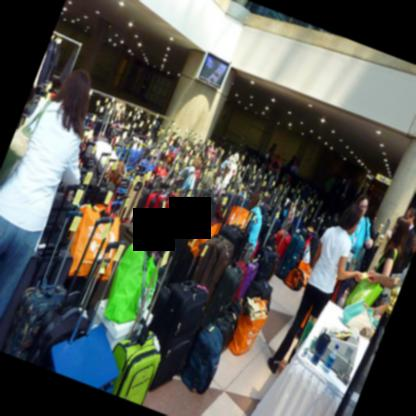backpack: (180, 321, 222, 394), (284, 267, 303, 292)
handbag: (0, 97, 53, 189), (103, 240, 157, 324), (68, 205, 120, 281), (345, 249, 396, 305), (228, 298, 268, 353), (187, 222, 221, 256), (214, 309, 237, 351), (296, 243, 310, 285), (226, 205, 249, 230), (309, 237, 320, 268), (348, 232, 356, 271), (181, 171, 195, 193), (354, 245, 365, 271), (179, 168, 189, 181), (364, 217, 367, 239)
suitcase: (0, 105, 341, 415), (27, 218, 115, 371), (52, 244, 123, 393), (111, 248, 175, 406), (151, 278, 207, 390), (1, 278, 67, 361), (178, 321, 225, 396), (199, 261, 244, 333), (189, 233, 234, 296), (39, 190, 75, 243), (147, 282, 176, 332), (274, 234, 305, 279), (118, 222, 149, 257), (238, 259, 260, 298)
